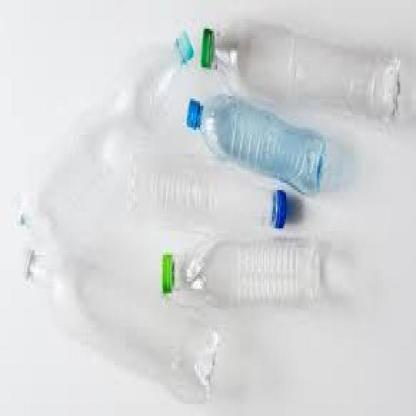Plastic Bottle: (15, 243, 225, 405), (200, 24, 402, 117), (187, 94, 328, 193), (127, 155, 287, 228), (161, 237, 321, 307)
